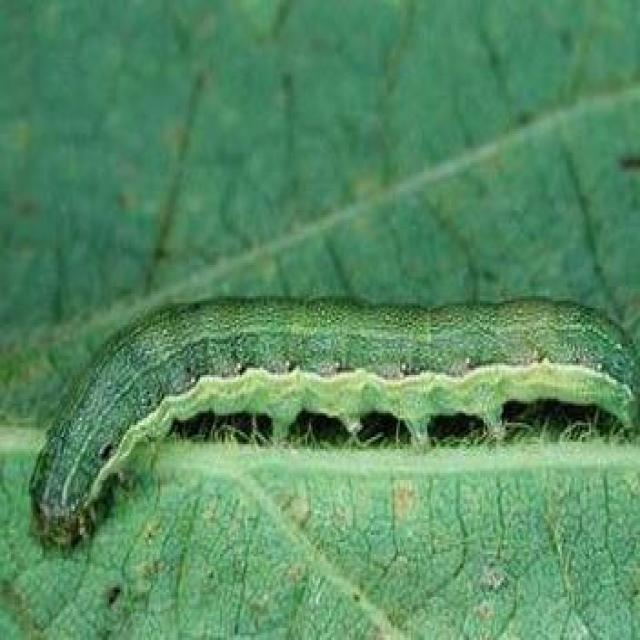BeetArmyWorm-Larva-: (24, 286, 638, 567)
